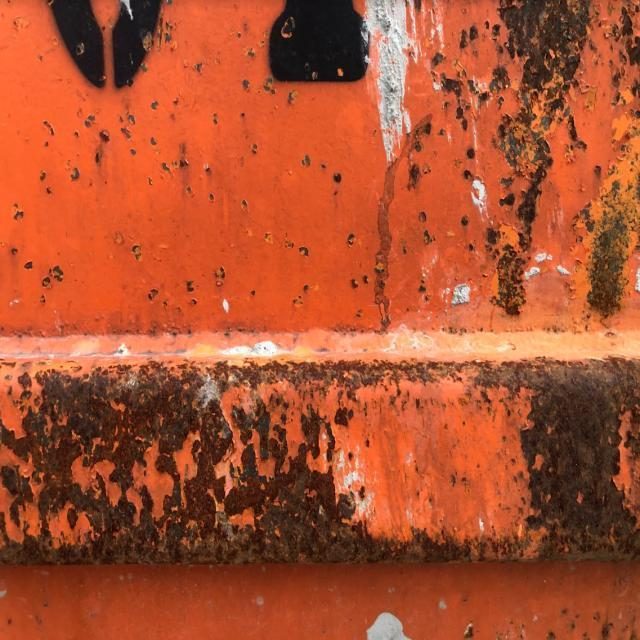Corrosion: (0, 352, 640, 570), (480, 0, 599, 318), (423, 9, 509, 186), (571, 105, 640, 318), (2, 116, 115, 228), (590, 0, 640, 125), (130, 243, 222, 306), (22, 251, 74, 316), (281, 229, 314, 310), (346, 254, 392, 297), (232, 31, 258, 94), (565, 109, 588, 164), (421, 209, 435, 244), (262, 73, 277, 98), (288, 88, 297, 106)
